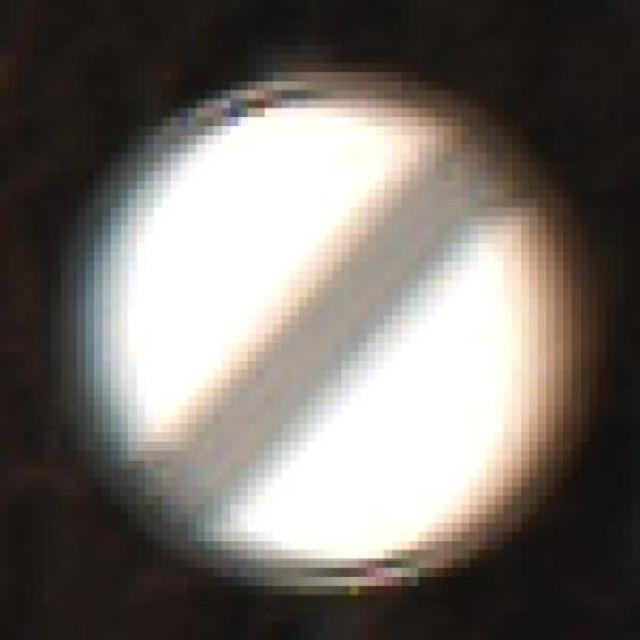End of all speed and passing limits: (52, 63, 598, 605)
